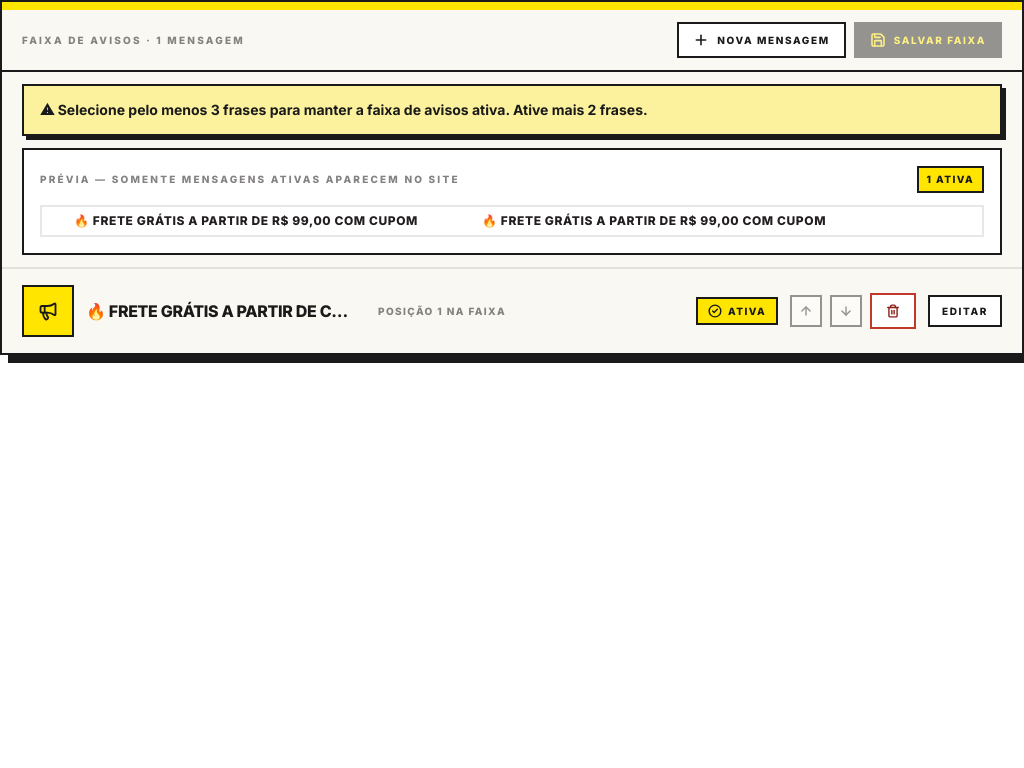
Test case: MarqueeGroup › resolve o token na prévia enquanto o editor mostra o chip
The image size is (1024, 768).
expect the 1st text "🔥 FRETE GRÁTIS a partir de R$ 99,00 com cupom" is shown: met, box [74, 213, 418, 228]
Click the button with aria-label "editar 🔥 frete grátis a partir de" at (965, 311), box [928, 295, 1002, 327]
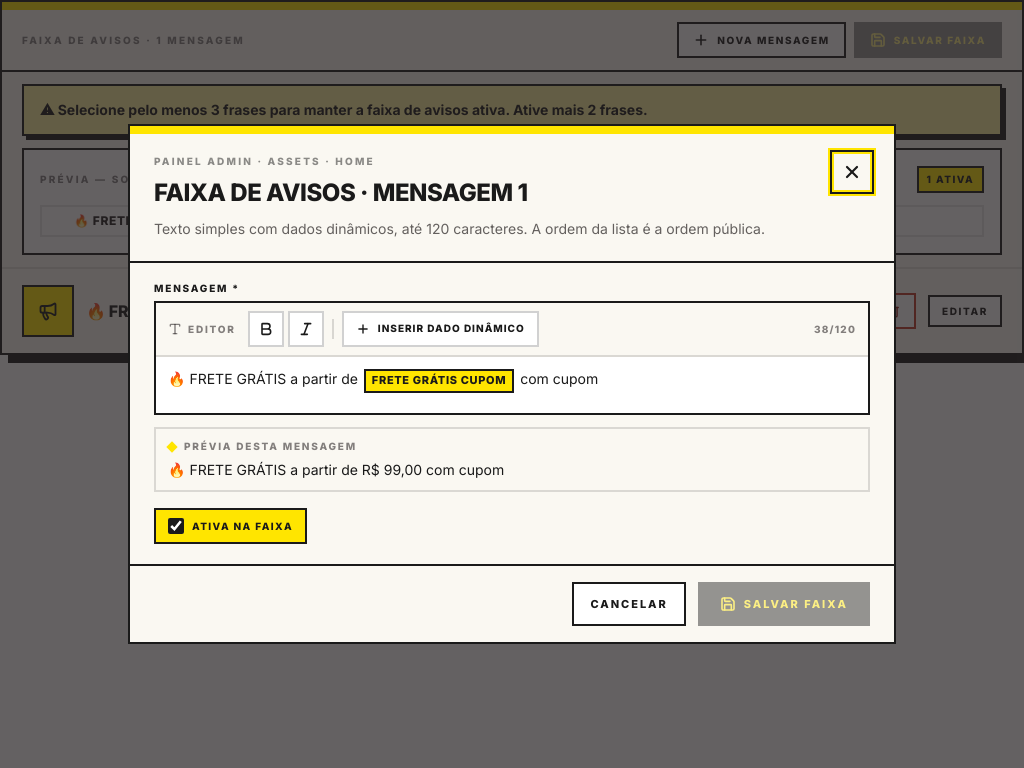
expect the text "Frete grátis cupom" is shown: met, box [364, 369, 514, 393]
